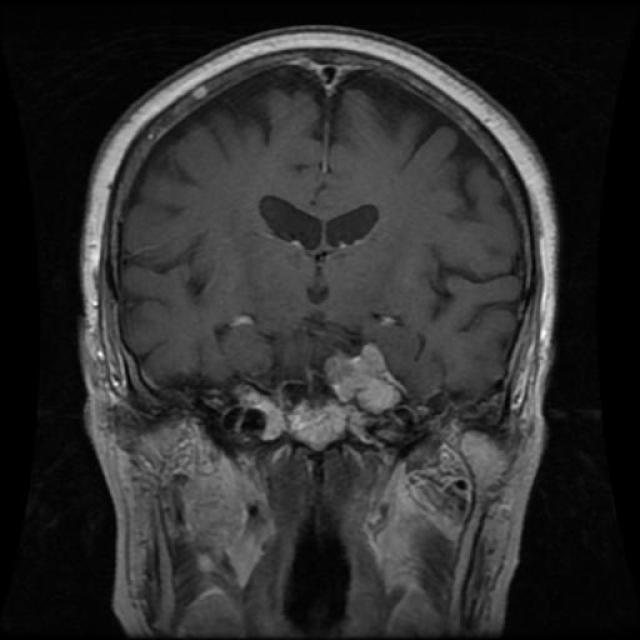meningioma: (338, 345, 406, 415)
